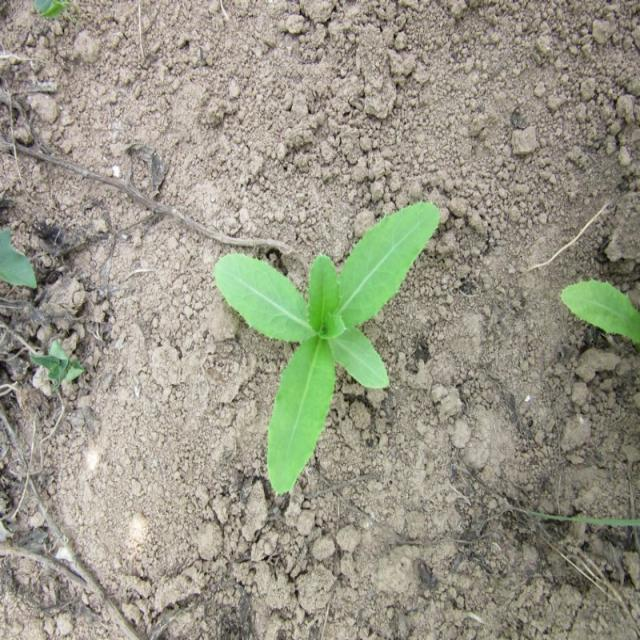field_thistle: (193, 178, 448, 509)
